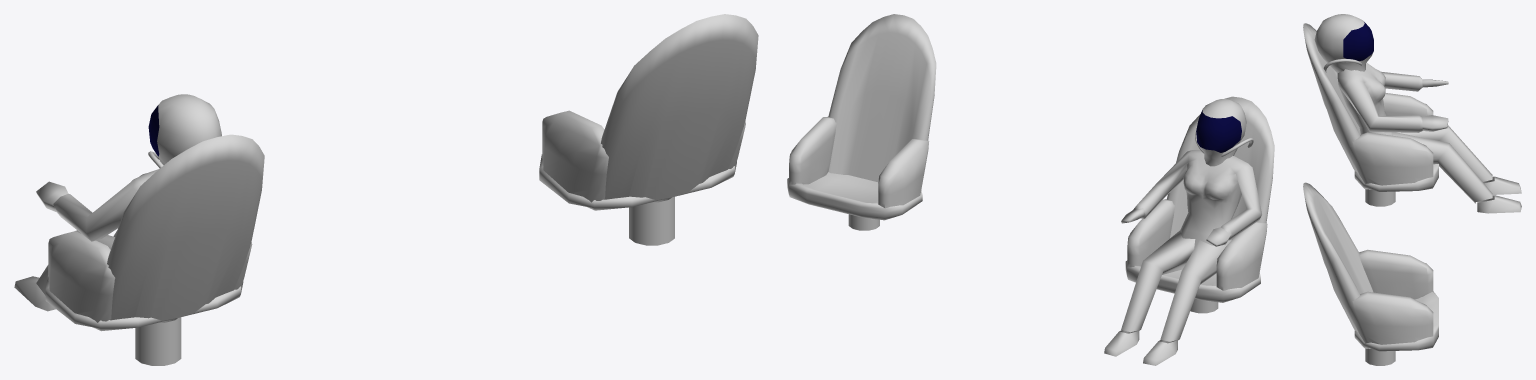
File: pilot_f.dae
3 renders of one model, left to right at view 1: azimuth 30°, elevation 25°; view 2: azimuth 150°, elevation 25°; view 3: azimuth 270°, elevation 25°, orthographic. The views are drawn at different scales.
Parts seen in each view (by area): view 1: pilot_f; view 2: pilot_f; view 3: pilot_f.
Boxes of the visible parts, x1=… form: pilot_f: x1=14, y1=14, x2=758, y2=365; pilot_f: x1=787, y1=14, x2=1274, y2=365; pilot_f: x1=1303, y1=14, x2=1521, y2=365.
Bounding box in the file's own units: 3.22 × 1.39 × 1.29.
